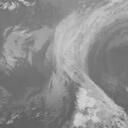cyclone: (47, 27, 108, 98)
